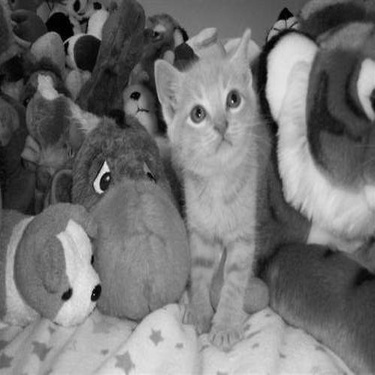cat: (138, 40, 287, 354)
dog: (5, 208, 103, 348)
